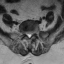CCS_stenosis: (28, 30, 30, 39)
LFS_normal: (32, 29, 34, 36)
LLS_normal: (30, 30, 32, 38)
RFS_stenosis: (24, 29, 26, 36)
RLS_normal: (26, 30, 28, 38)
